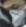with_mask: (1, 2, 26, 27)
